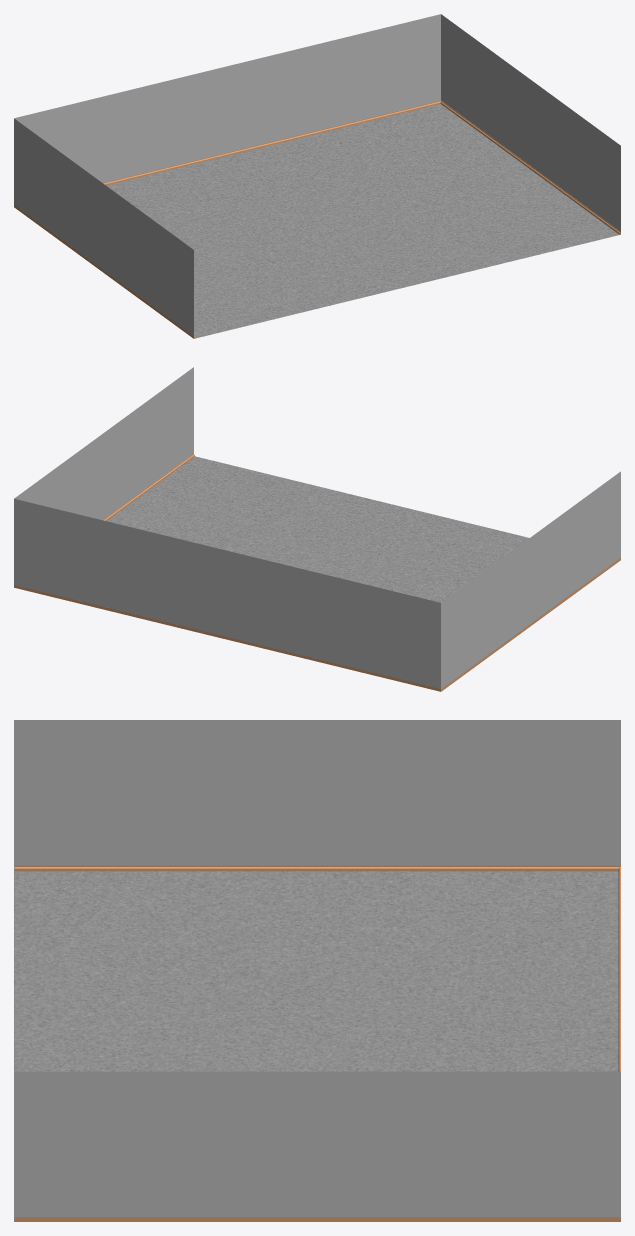
Rendered from Coldroom.fbx.
The picture shows the model from 3 angles, top to bottom: view 1: azimuth 30°, elevation 25°; view 2: azimuth 150°, elevation 25°; view 3: azimuth 270°, elevation 25°; orthographic projection. The views are drawn at different scales.
Visible parts, largest first — view 1: Coldroom, Trimming Greenhouse.001; view 2: Coldroom, Trimming Greenhouse.001; view 3: Coldroom, Trimming Greenhouse.001.
Part boxes in pixels (bbox=[...]): Coldroom: bbox=[14, 14, 620, 338]; Trimming Greenhouse.001: bbox=[14, 100, 620, 338]; Coldroom: bbox=[14, 367, 620, 688]; Trimming Greenhouse.001: bbox=[14, 453, 620, 691]; Coldroom: bbox=[14, 720, 620, 1221]; Trimming Greenhouse.001: bbox=[14, 865, 620, 1221].
Bounding box in the file's own units: 3014 × 600 × 2198.
3 materials, 1 textured.
